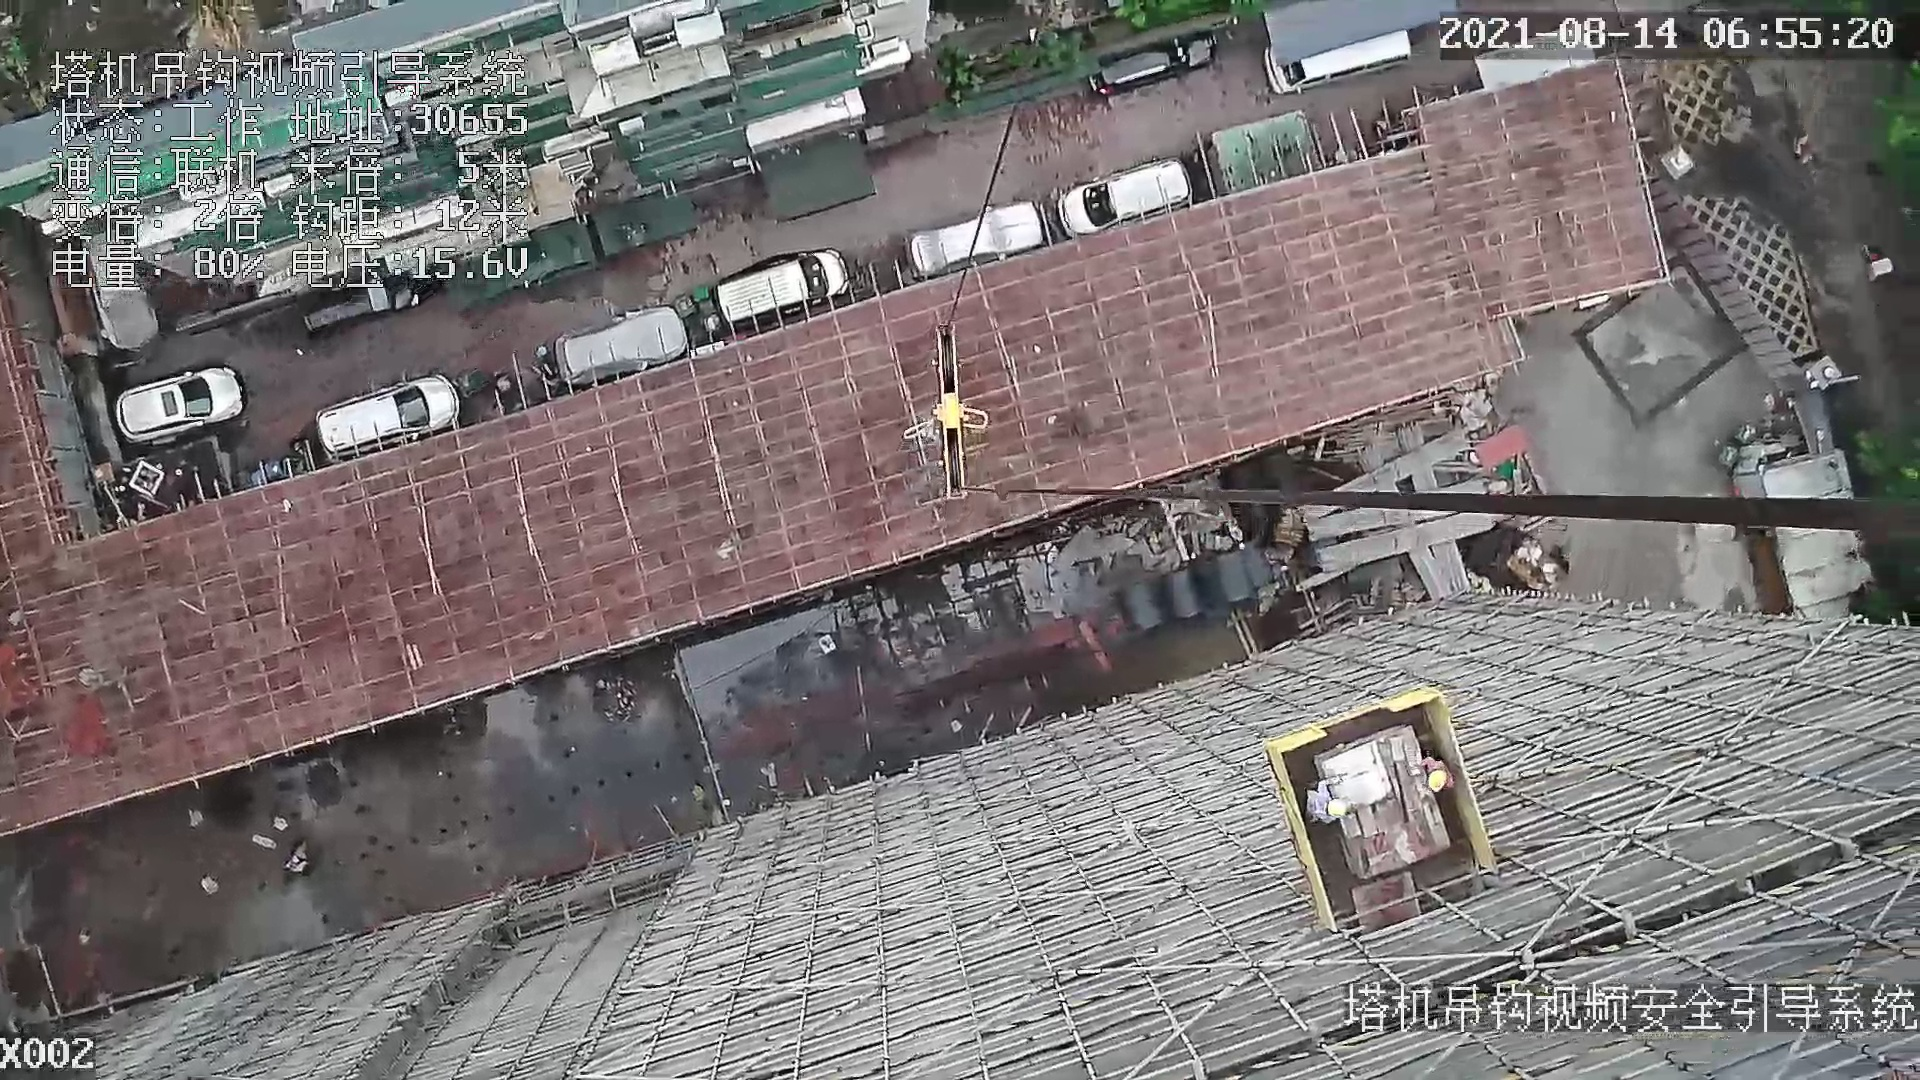board: (1315, 727, 1452, 881)
helmet: (1328, 798, 1346, 817), (1429, 770, 1445, 792)
hook: (922, 319, 978, 510)
person: (1308, 777, 1367, 818), (1415, 753, 1458, 799)
rebar: (1318, 512, 1488, 573), (1333, 430, 1471, 492), (1311, 509, 1458, 540), (1400, 548, 1451, 595), (1432, 543, 1473, 591)
